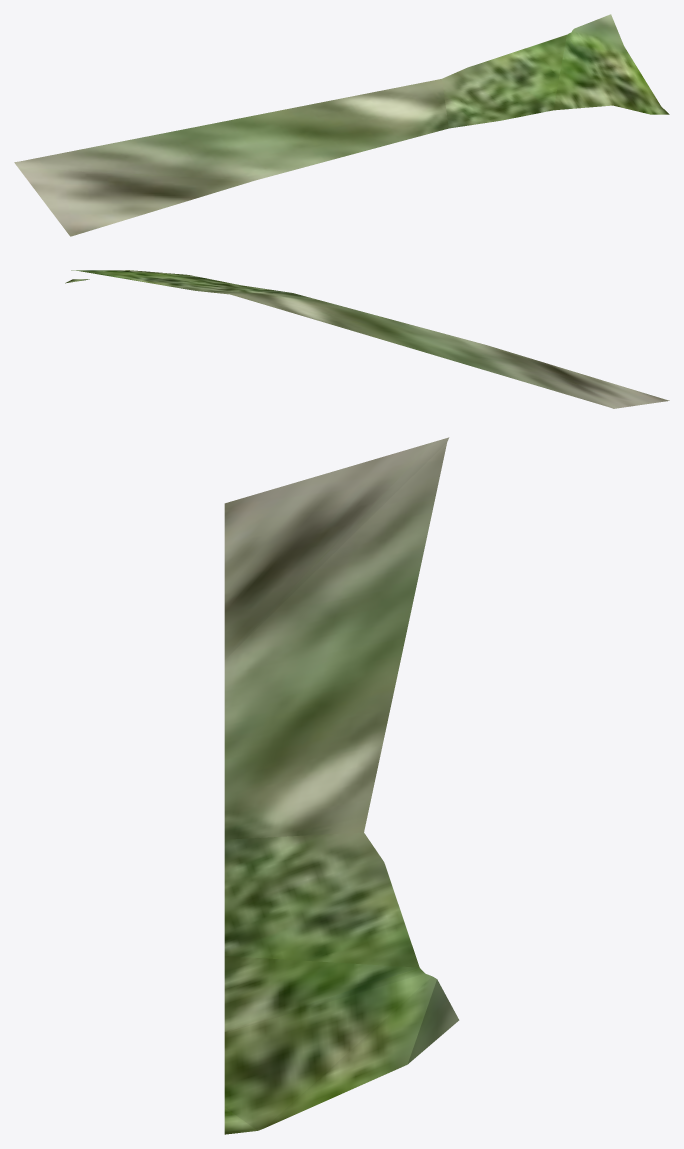
The picture shows the model from 3 angles, top to bottom: view 1: azimuth 30°, elevation 25°; view 2: azimuth 150°, elevation 25°; view 3: azimuth 270°, elevation 25°; orthographic projection. The views are drawn at different scales.
Size of the model in its own units: 1.67 by 0.1533 by 0.2852.
1 material, 1 textured.
